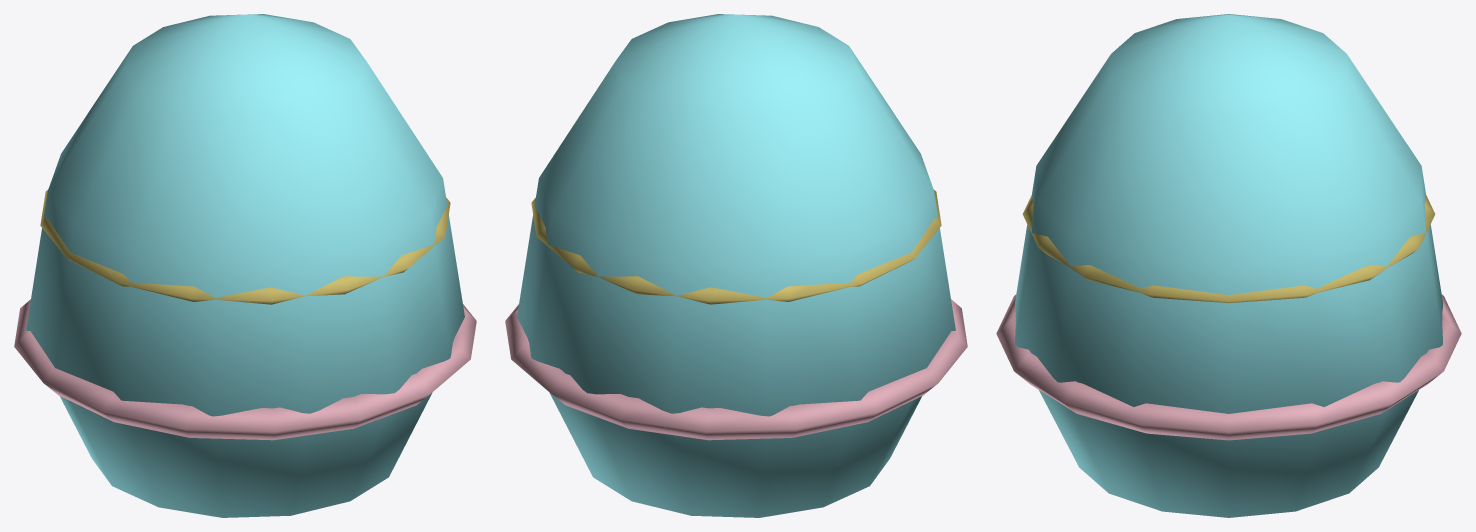
The model's file is EasterEgg2.fbx.
3 renders of one model, left to right at view 1: azimuth 30°, elevation 25°; view 2: azimuth 150°, elevation 25°; view 3: azimuth 270°, elevation 25°, orthographic.
Visible parts, largest first — view 1: egg2; view 2: egg2; view 3: egg2.
Part boxes in pixels (x1,y1,x2,y2): egg2: (14, 14, 476, 517); egg2: (505, 14, 967, 517); egg2: (996, 14, 1461, 517).
Size of the model in its own units: 0.3604 by 0.3995 by 0.3604.
